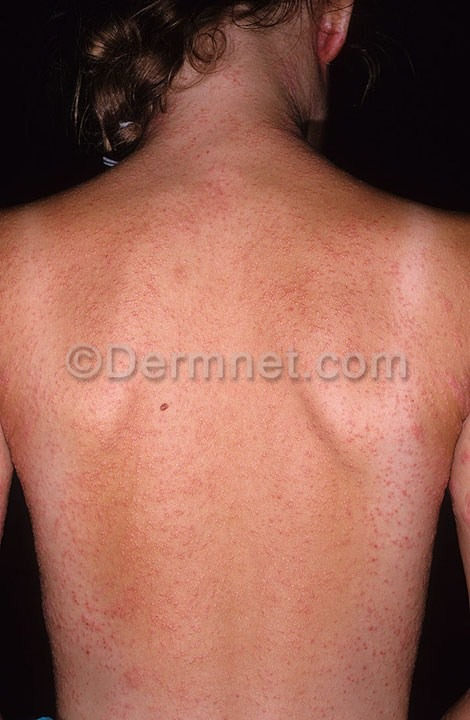Eczema: (6, 232, 470, 713), (112, 75, 306, 227)
